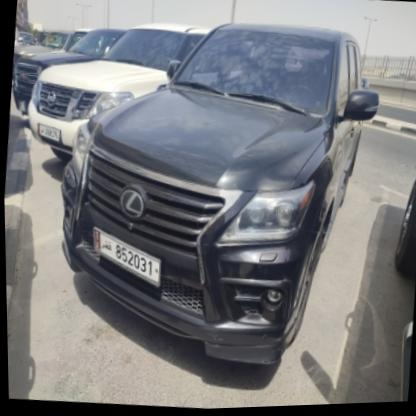np: (84, 224, 164, 293)
